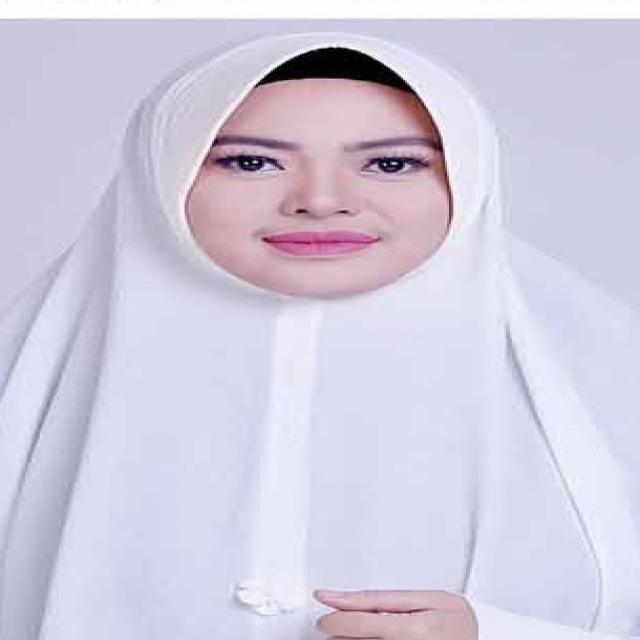head: (114, 33, 537, 306)
